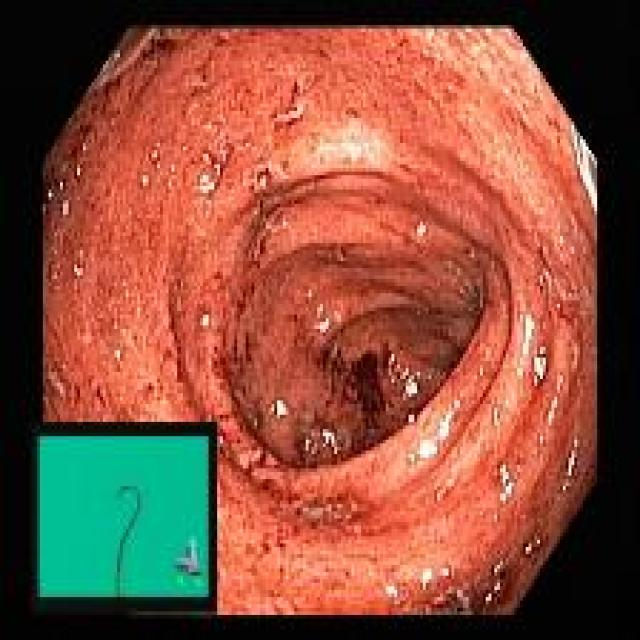ulcerative-colitis: (45, 28, 598, 615)
